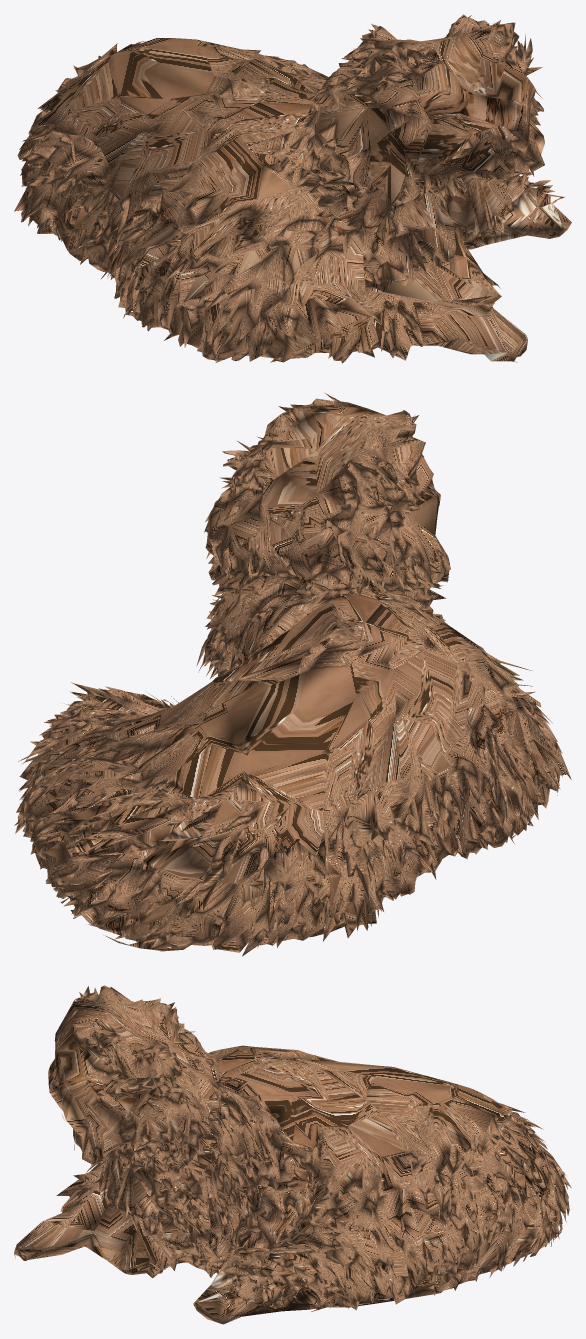
Rendered from grump.glb.
The picture shows the model from 3 angles, top to bottom: view 1: azimuth 30°, elevation 25°; view 2: azimuth 150°, elevation 25°; view 3: azimuth 270°, elevation 25°; orthographic projection. The views are drawn at different scales.
Size of the model in its own units: 1.43 by 0.9278 by 1.9.
1 material, 1 textured.
